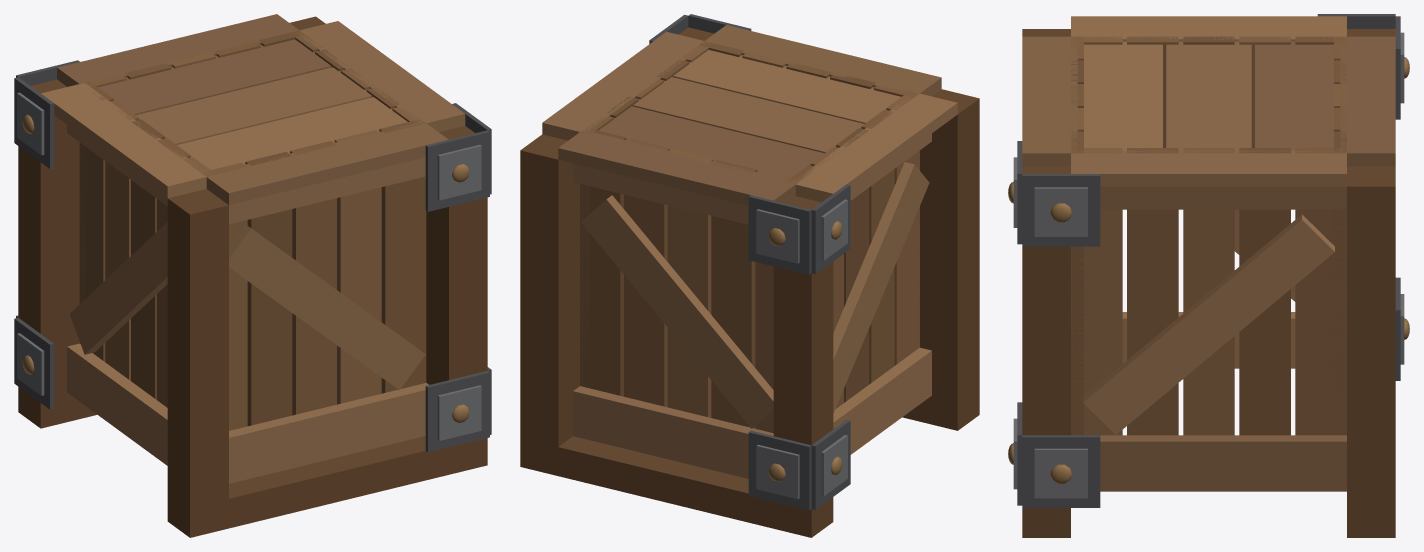
File: push-crate.glb
The picture shows the model from 3 angles, left to right: view 1: azimuth 30°, elevation 25°; view 2: azimuth 150°, elevation 25°; view 3: azimuth 270°, elevation 25°; orthographic projection. The views are drawn at different scales.
Parts seen in each view (by area): view 1: push-crate, push-crate-metal; view 2: push-crate, push-crate-metal; view 3: push-crate, push-crate-metal.
Part boxes in pixels (x1,y1,x2,y2): push-crate: (18, 14, 487, 537); push-crate-metal: (14, 60, 491, 452); push-crate: (520, 25, 979, 537); push-crate-metal: (649, 14, 850, 510); push-crate: (1022, 16, 1395, 537); push-crate-metal: (1008, 14, 1409, 507).
Bounding box in the file's own units: 0.62 × 0.62 × 0.62.
